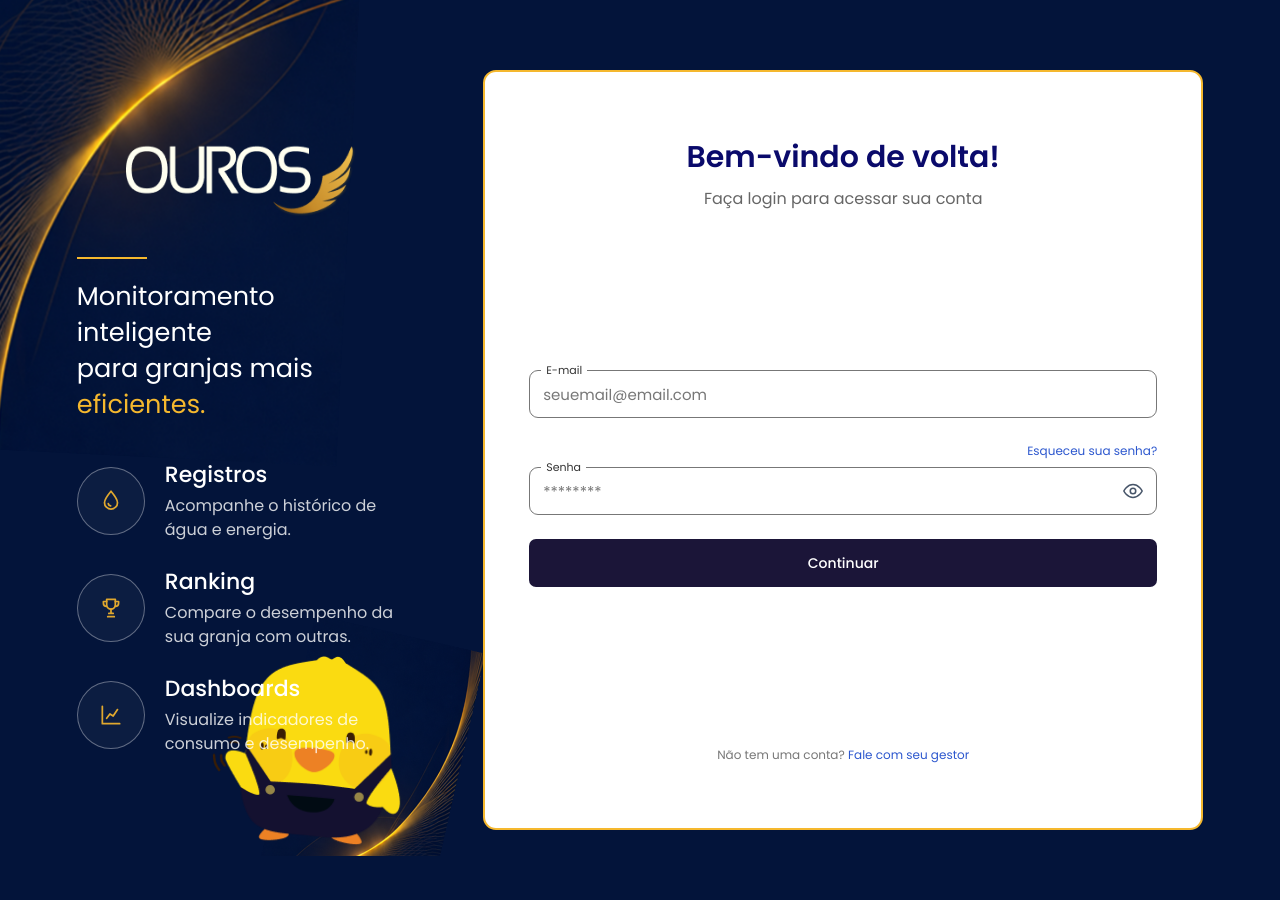
it: login valida campos, envia credenciais e apresenta desafio OTP
The width and height of the screenshot is (1280, 900).
Step 1. Submit the form, box [529,334,1157,623]
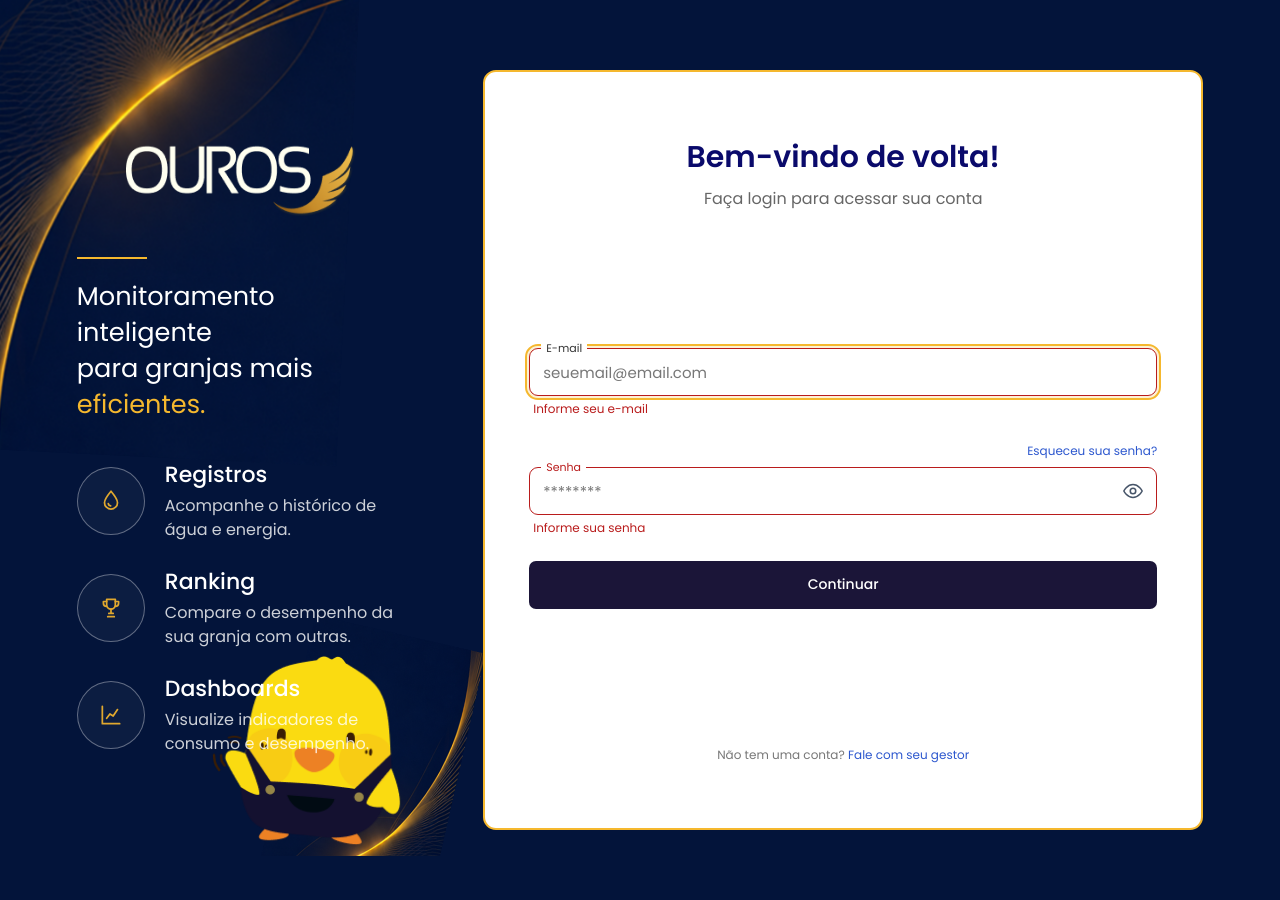
Expected: the text "Informe seu e-mail" is shown, [533,400,648,417]
Step 2. Type "ana@x.com" into the field labelled "E-mail" → (843, 372), box [529,348,1157,396]
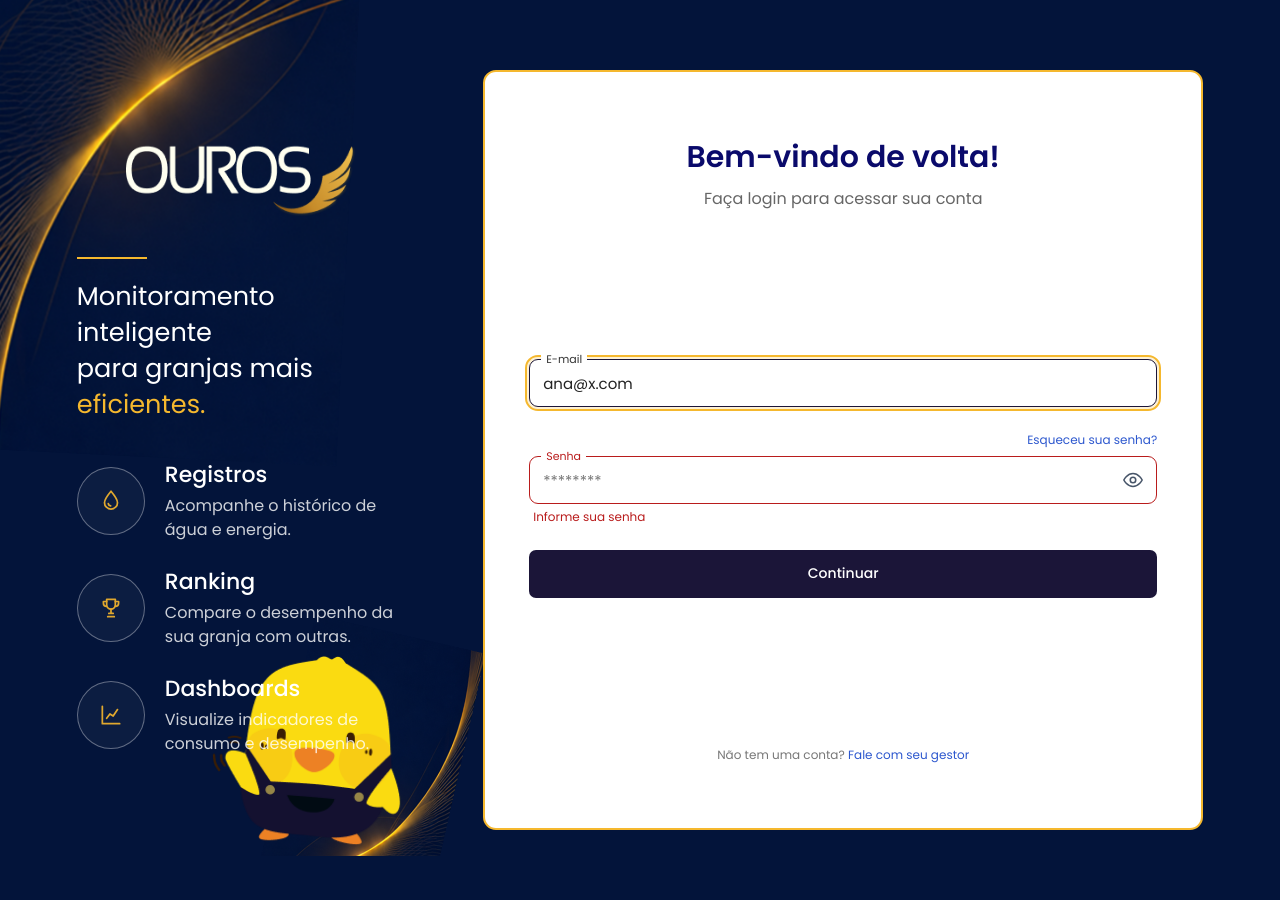
Step 3. Type "secret123" into the password field labelled "Senha" → (843, 480), box [529,456,1157,504]
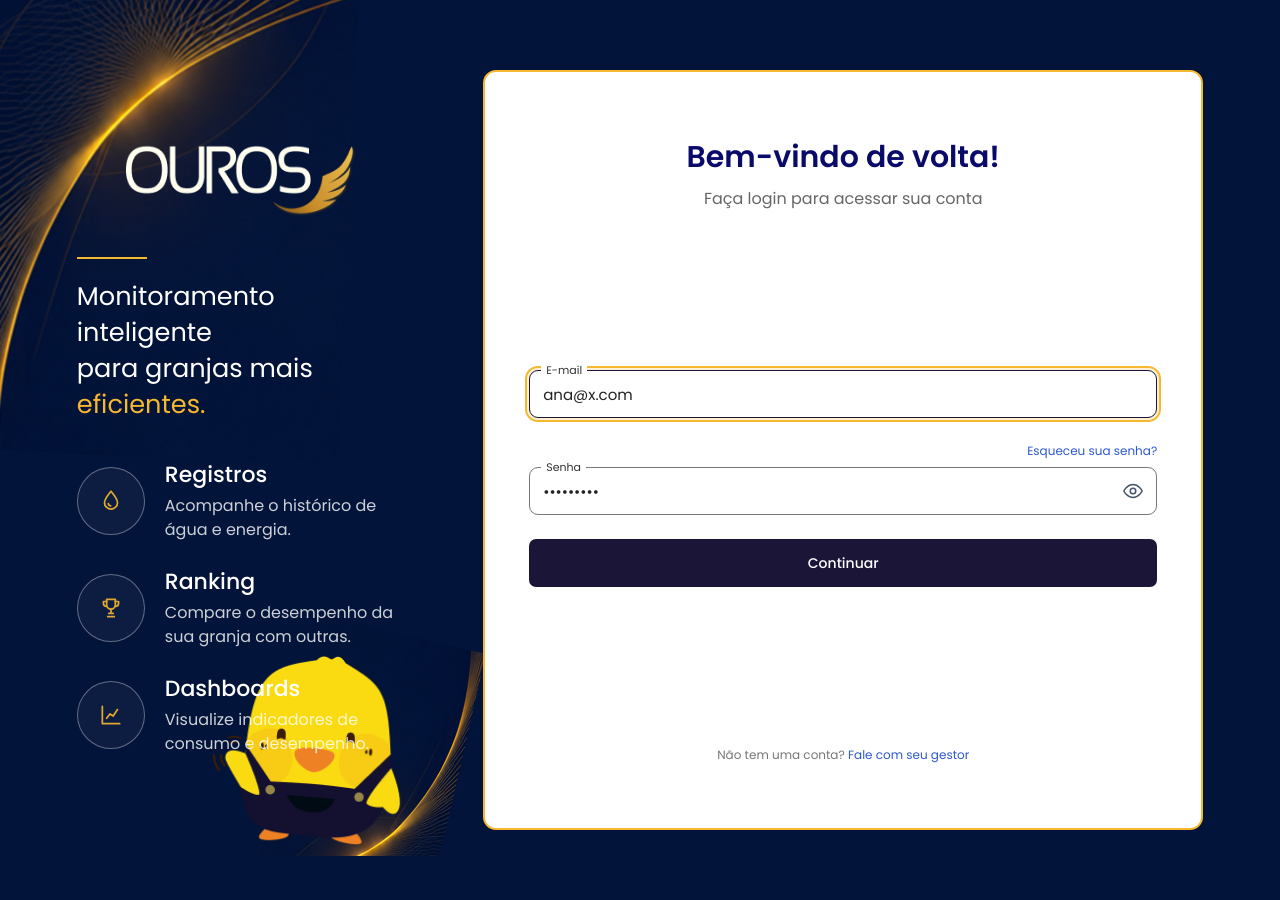
Step 4. Submit the form, box [529,334,1157,623]
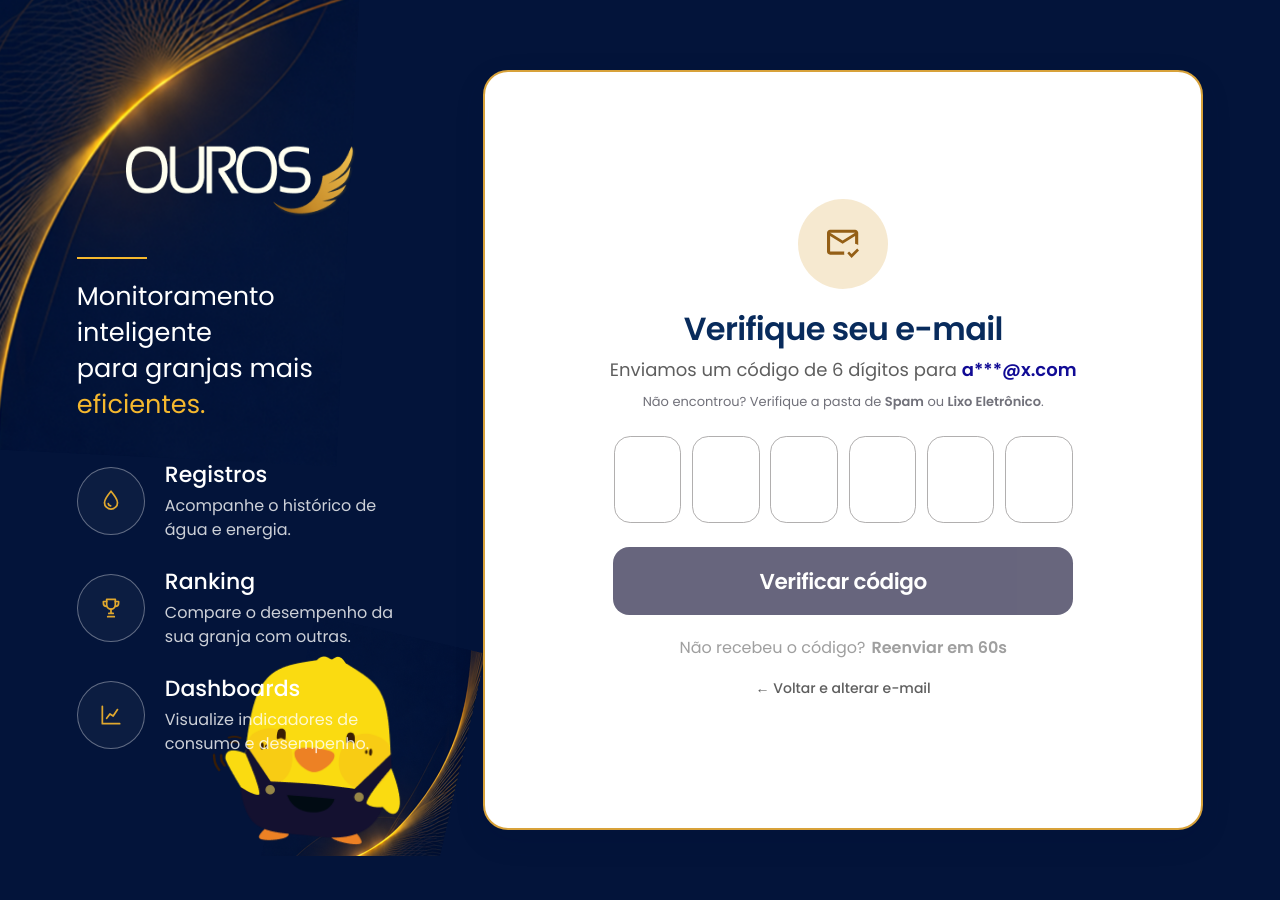
Expected: the heading "Verifique seu e-mail" is shown, [684,306,1003,351]
